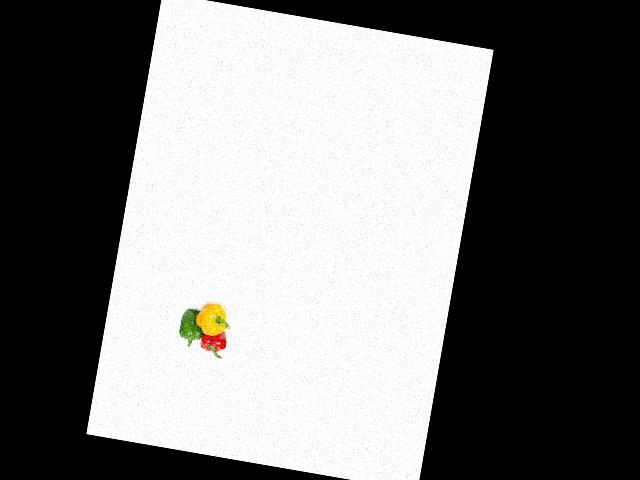bell_pepper: (193, 322, 233, 363)
